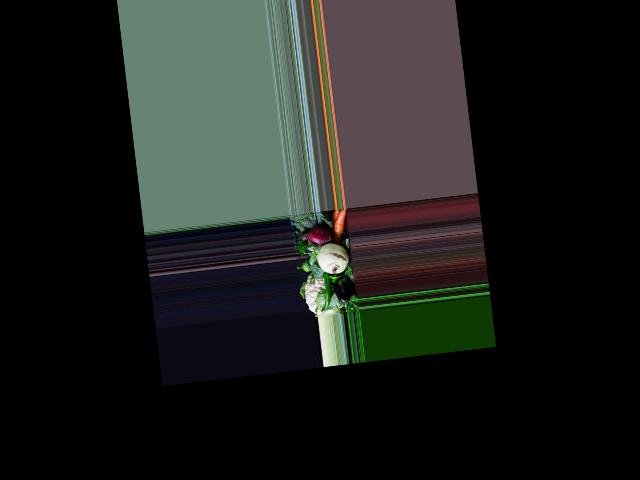carrot: (327, 207, 350, 238)
